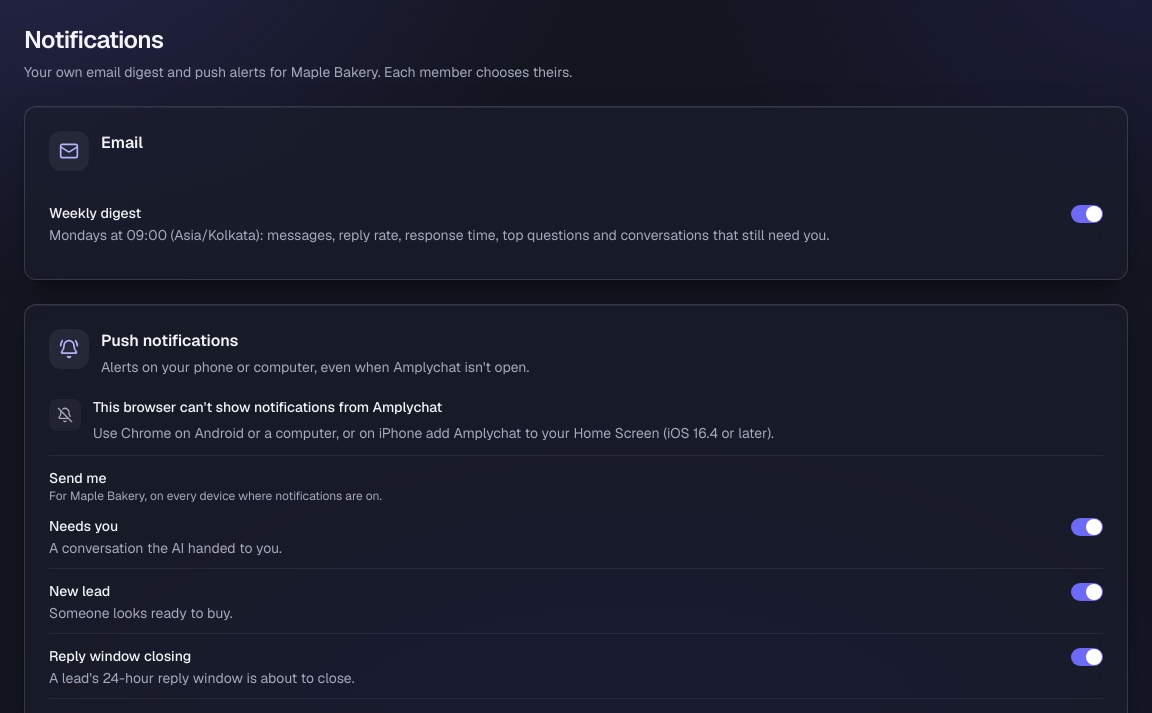
Test case: Settings → Notifications (UX-SCR-07, FR-NOT-03, FR-NOT-04) › a switch per push event: Needs you, new lead, window closing, account problems
Expected: the switch named "Needs you" in the row of "Needs you" is checked, [1071,518,1103,536]
Expected: the switch named "New lead" in the row of "New lead" is checked, [1071,583,1103,601]
Click the switch named "Reply window closing" in the row of "Reply window closing". click: (1087, 657)
box: [1071,648,1103,666]
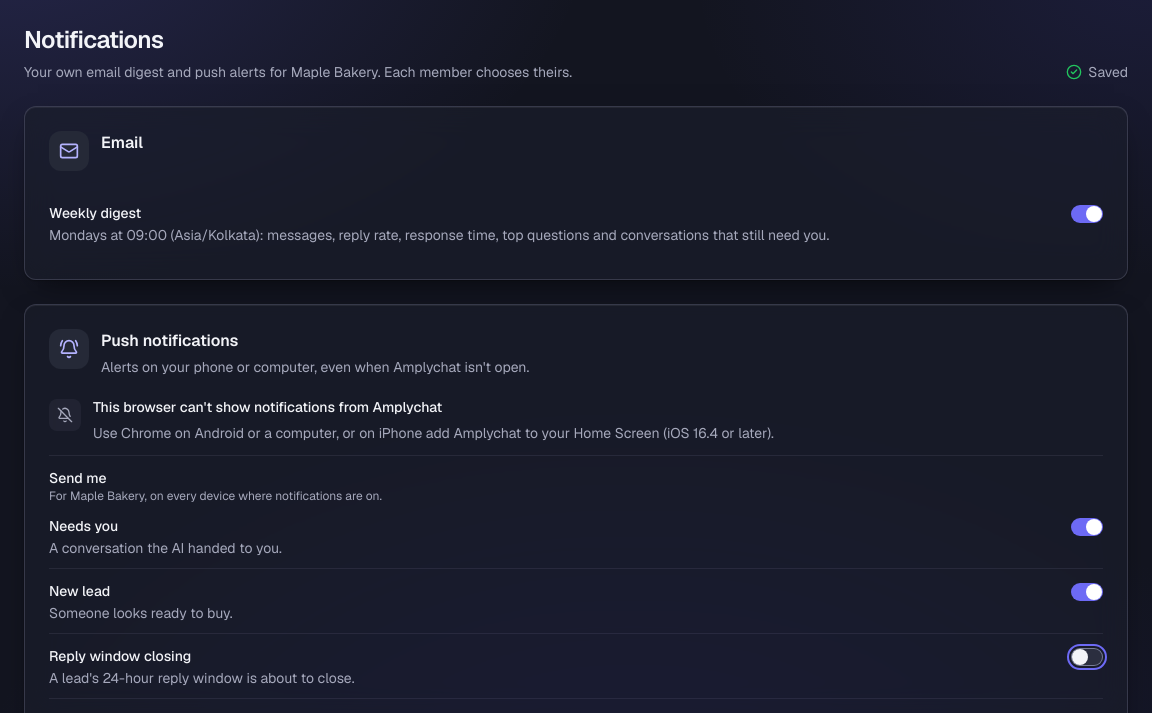
Expected: the text "This browser can't show notifications from Amplychat" is shown, [93,398,442,416]
Expected: the text "Saved" is shown, [1066,62,1128,82]
